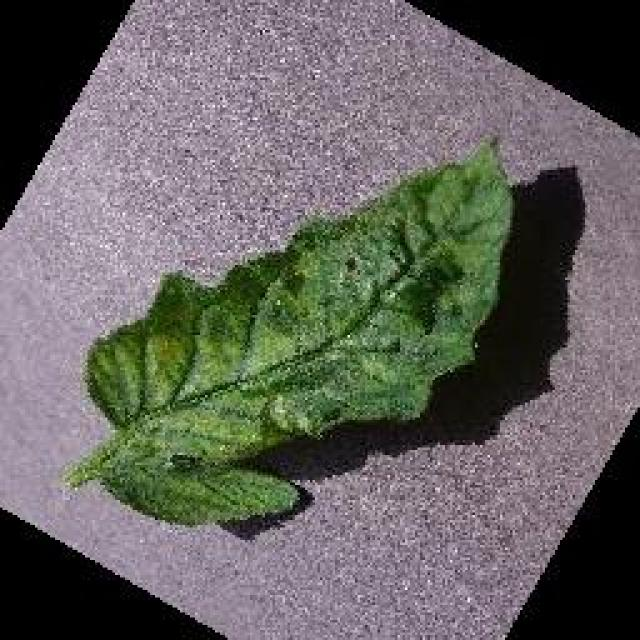Tomato___Tomato_mosaic_virus: (70, 140, 512, 520)
